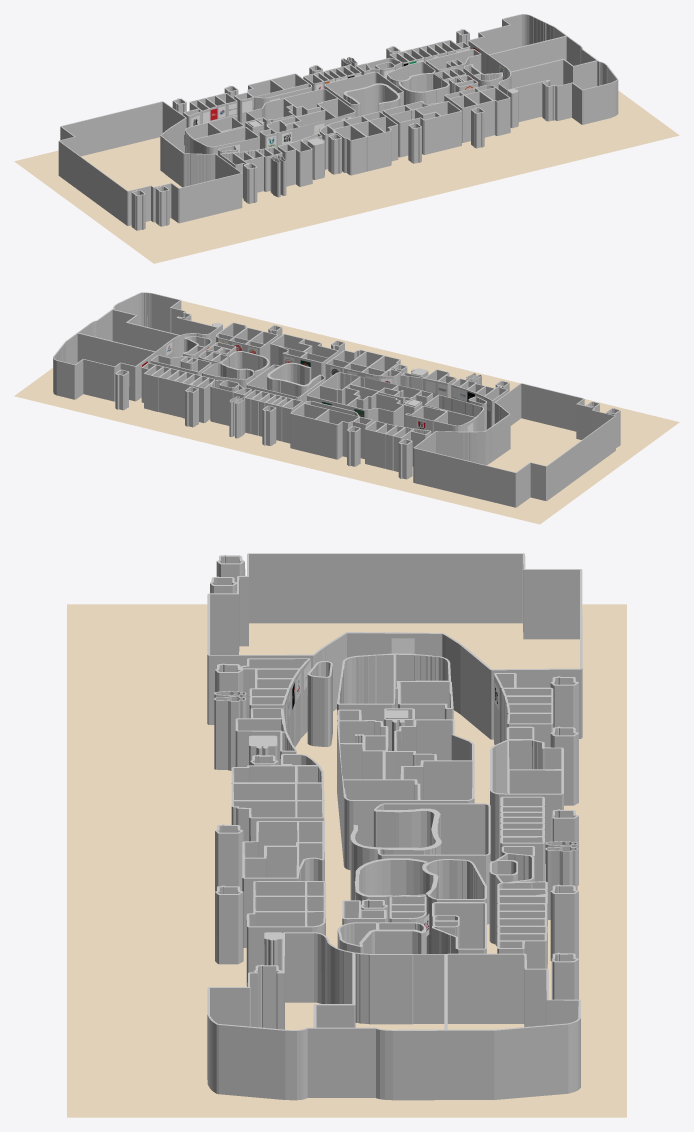
Rendered from TF_final_3_banner.fbx.
3 renders of one model, top to bottom at view 1: azimuth 30°, elevation 25°; view 2: azimuth 150°, elevation 25°; view 3: azimuth 270°, elevation 25°, orthographic. The views are drawn at different scales.
Parts seen in each view (by area): view 1: path1, Plane; view 2: path1, Plane; view 3: path1, Plane.
Boxes of the visible parts, x1=… form: path1: x1=58, y1=14, x2=618, y2=230; Plane: x1=14, y1=90, x2=679, y2=263; path1: x1=53, y1=292, x2=620, y2=507; Plane: x1=14, y1=300, x2=679, y2=524; path1: x1=207, y1=553, x2=582, y2=1100; Plane: x1=67, y1=604, x2=626, y2=1117.
Bounding box in the file's own units: 79.4 × 5.02 × 36.6.
